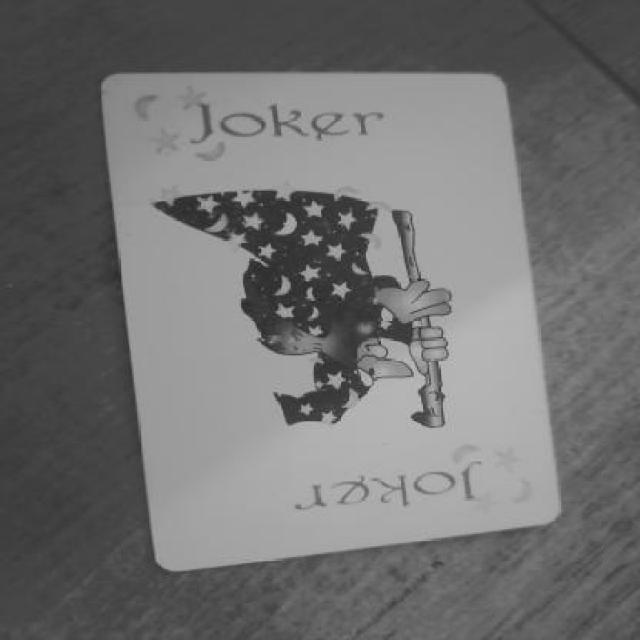BLACK JOKER: (250, 443, 562, 532), (102, 88, 408, 164)
